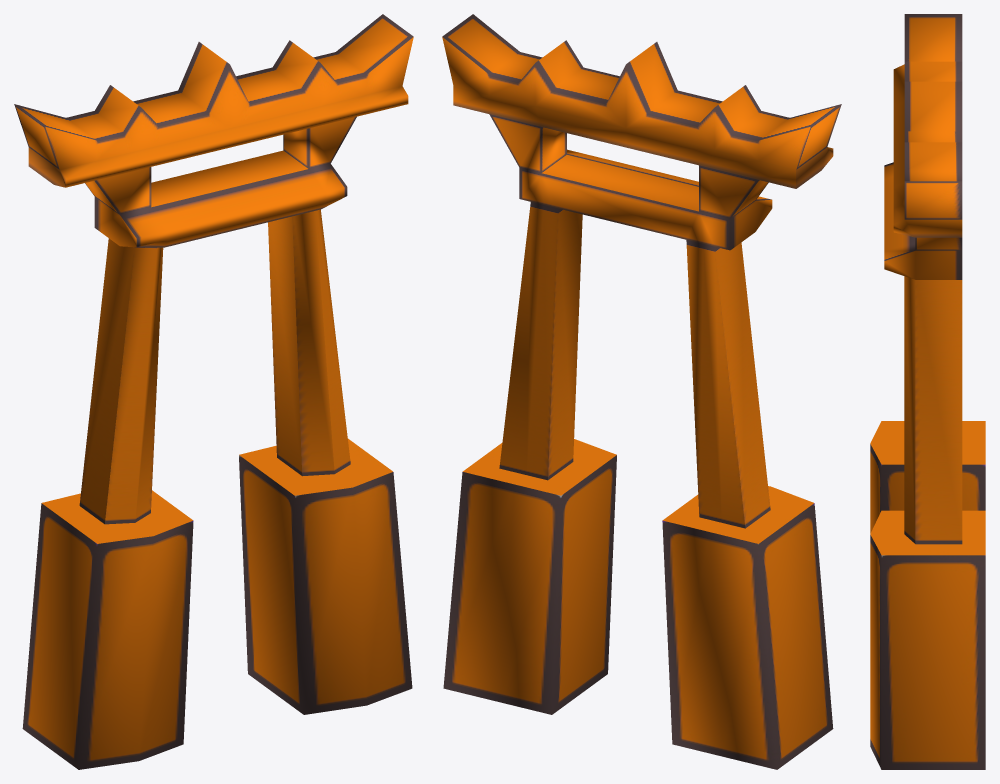
File: Sao.fbx
3 views of the same model, side by side, from view 1: azimuth 30°, elevation 25°; view 2: azimuth 150°, elevation 25°; view 3: azimuth 270°, elevation 25° (orthographic). The views are drawn at different scales.
Visible parts, largest first — view 1: polySurface3; view 2: polySurface3; view 3: polySurface3.
Part boxes in pixels (bbox=[...]): polySurface3: bbox=[14, 14, 413, 769]; polySurface3: bbox=[442, 14, 841, 769]; polySurface3: bbox=[870, 14, 985, 769].
Bounding box in the file's own units: 4.05 × 6.89 × 1.18.
